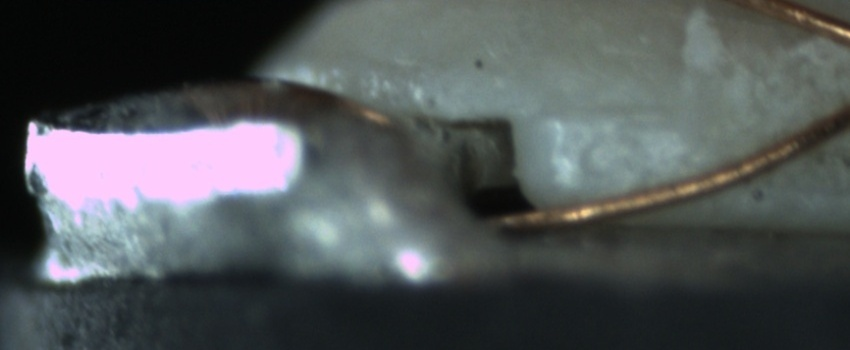DL: (537, 78, 680, 146)
